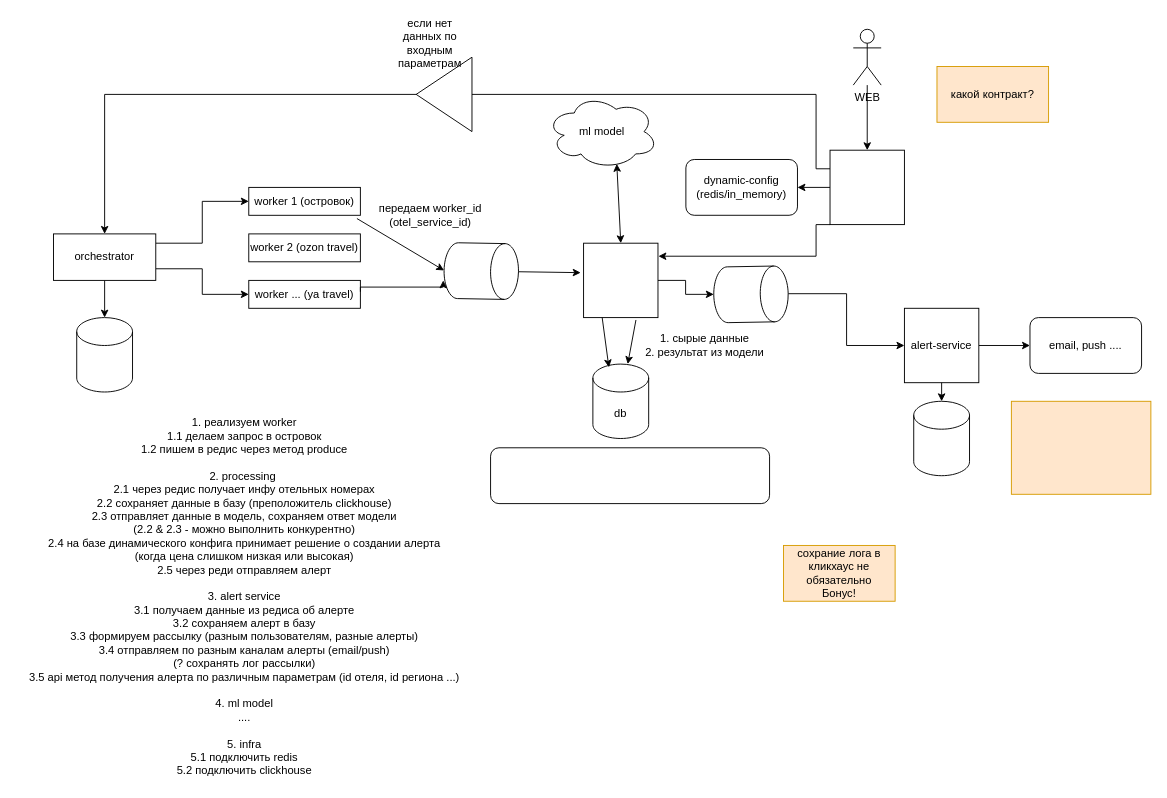
Image size: 1167x798. Some labels were removed from this diagram. The centre of each missing label's shape, as x and y in pixels:
alert-db: point (941, 438)
api: point (866, 187)
db параметры запросов: point (104, 354)
processing: point (620, 280)
sql : id | date | address | cost | new_cost clickhouse / mongodb (?) : jsonData: point (630, 475)
менеджер островка может подписаться на алерты с определенных отлелей/регионов: point (1080, 447)
